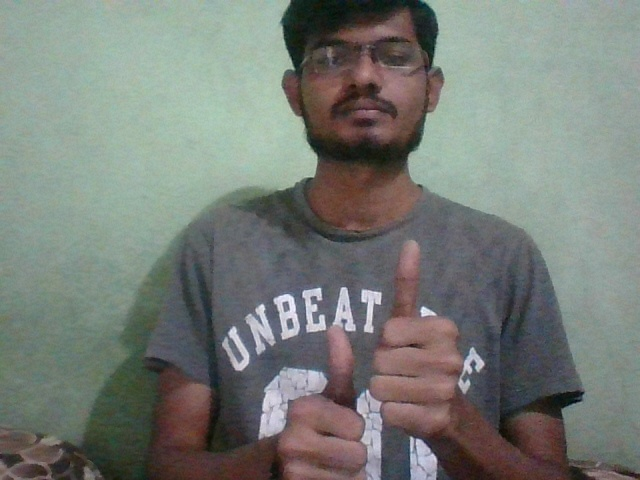which: (283, 236, 467, 480)
